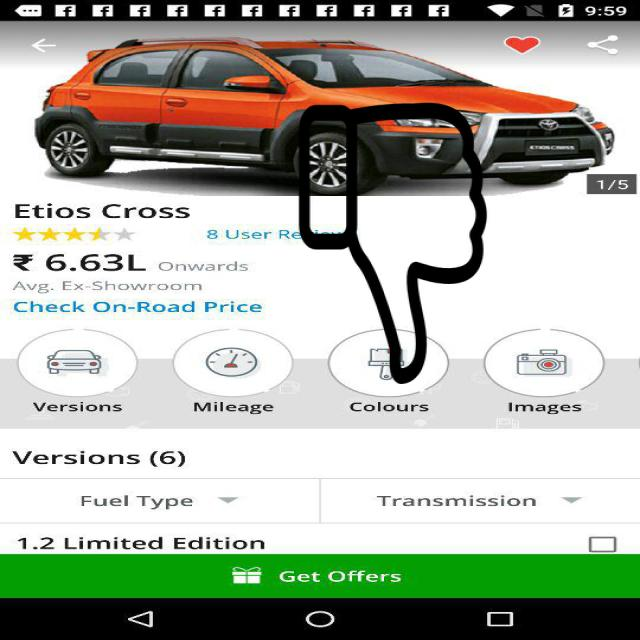obstruction: (296, 103, 489, 384)
